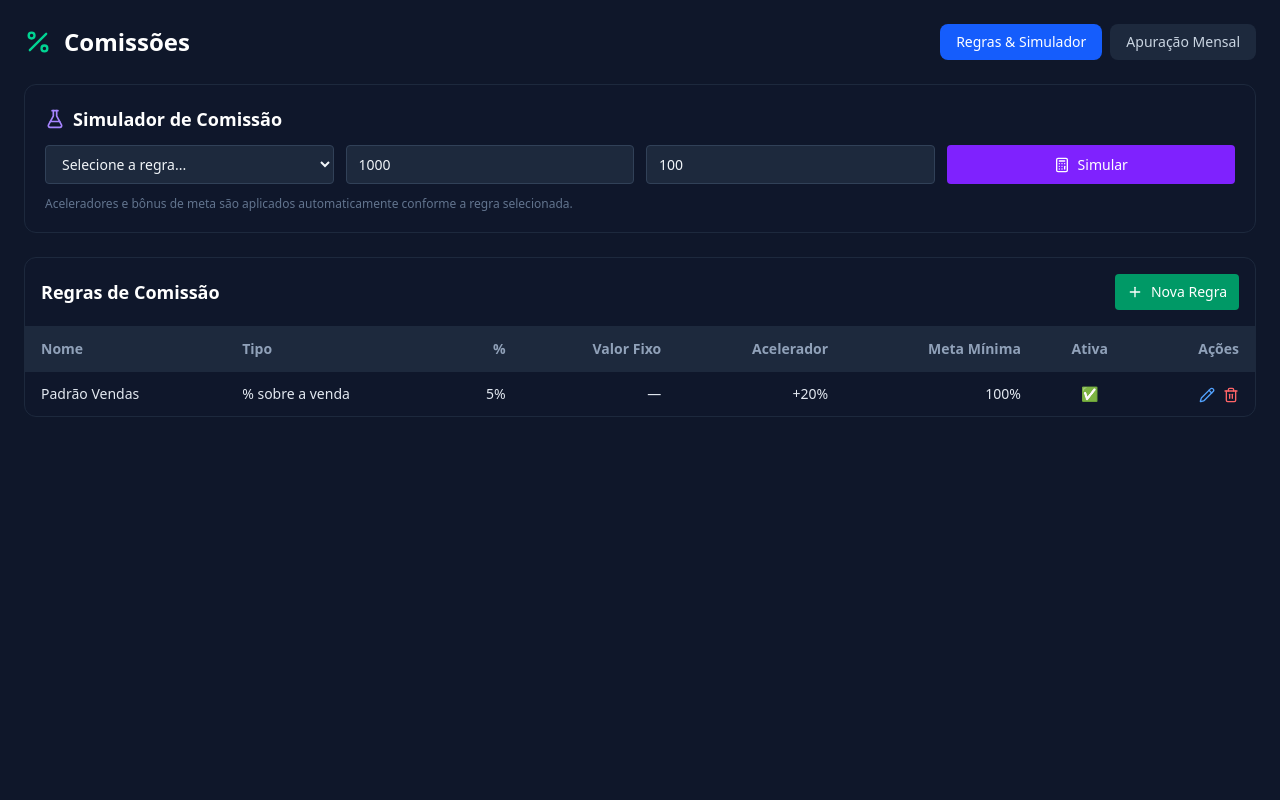
Test case: Comissoes › abre o modal de nova regra ao clicar em "Nova Regra"
What coordinates should you click on to do the following:
click the button "Nova Regra"
I would click on:
 (1177, 292)
Its box is [1115, 274, 1239, 310].
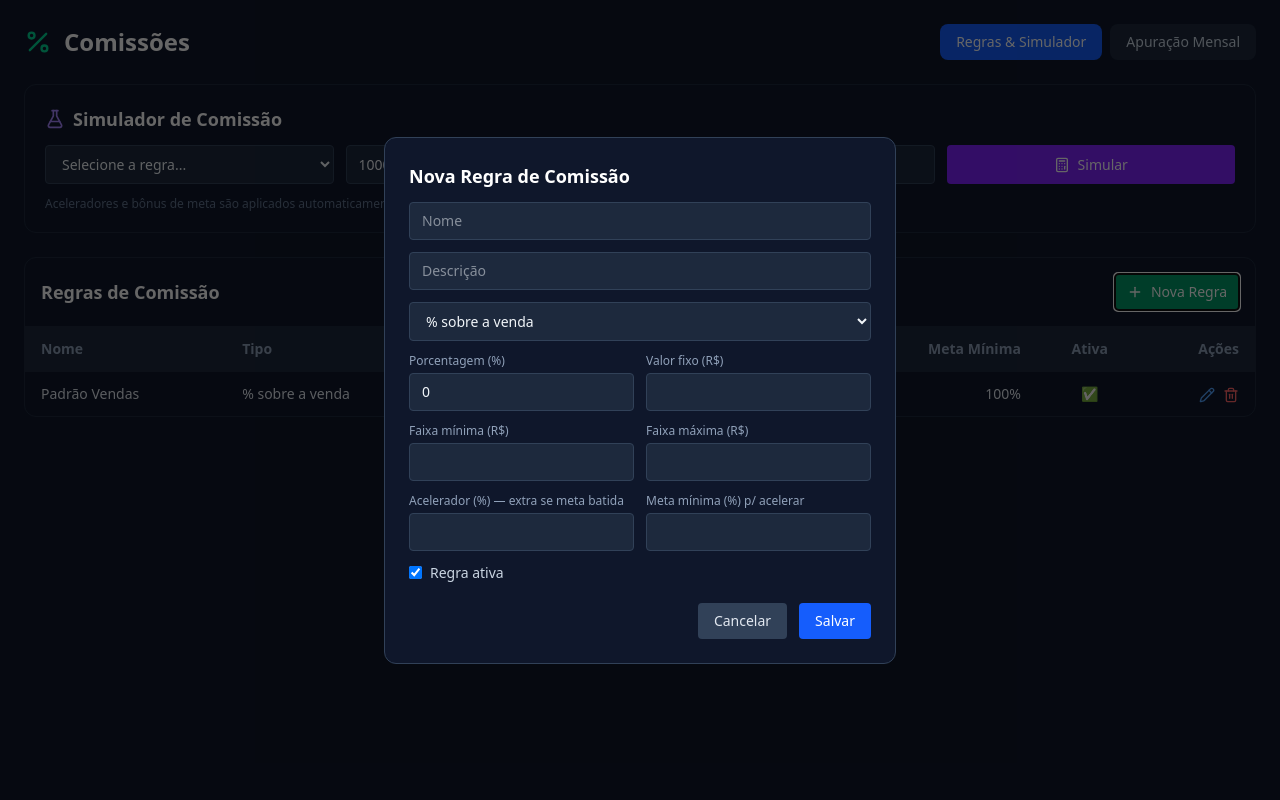
Check: the heading "Nova Regra de Comissão" is shown, box [409, 164, 630, 188]
Check: the field with placeholder "Nome" is shown, box [409, 202, 871, 240]
